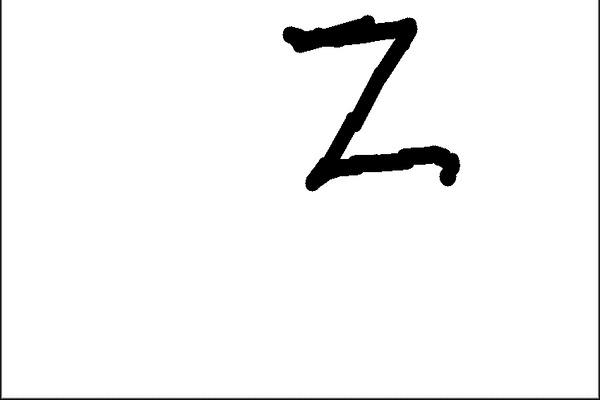Z: (274, 8, 471, 204)
